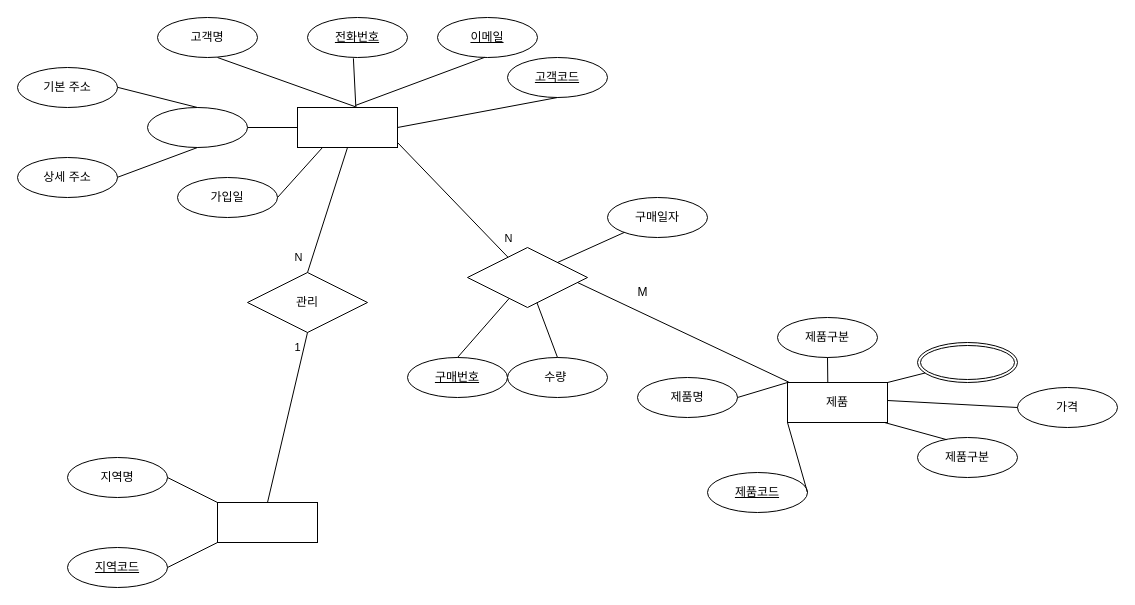
This 1135x605 diagram has some shape labels left out. The centre of each missing label's shape, as x and y in pixels:
고객: the point at 347,127
구매: the point at 527,277
제품색상: the point at 967,362
주소: the point at 197,127
지역: the point at 267,522
